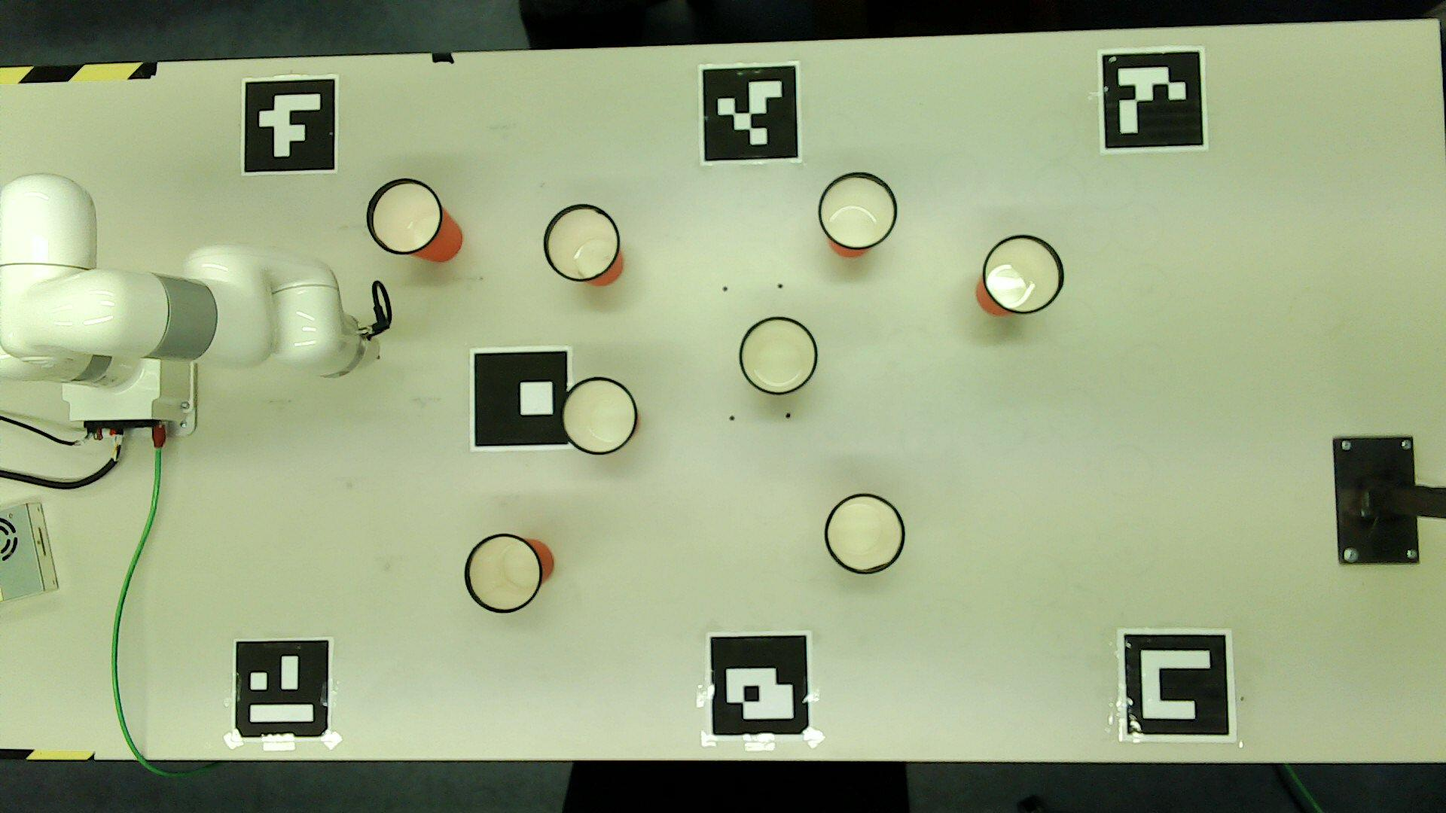cup: (826, 496, 903, 573), (985, 236, 1062, 313), (466, 535, 541, 611), (741, 318, 816, 392), (821, 174, 895, 248), (563, 380, 636, 453), (546, 206, 618, 279), (368, 181, 439, 253)
